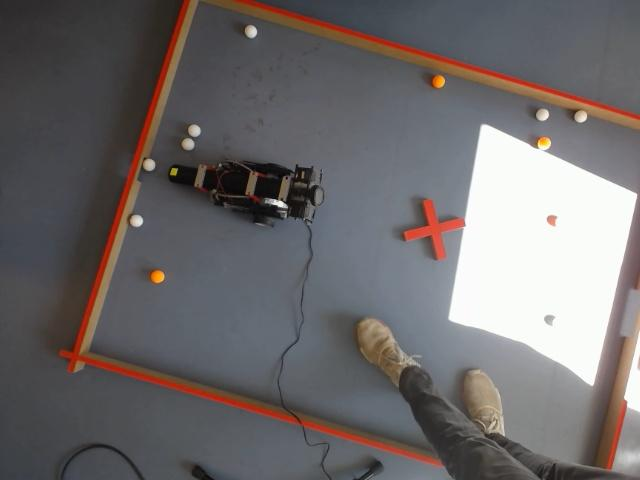orange: (431, 74, 445, 89), (150, 270, 165, 284), (537, 136, 551, 150)
robot: (168, 161, 325, 226)
robot-front: (168, 164, 191, 185)
white: (187, 123, 201, 137), (244, 24, 257, 39), (130, 214, 143, 228), (535, 108, 549, 121), (574, 110, 588, 123), (182, 137, 195, 150), (143, 158, 156, 171)
